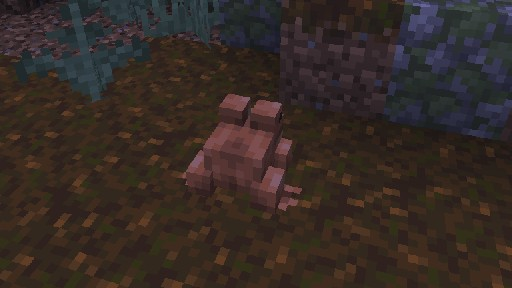frog: (181, 92, 301, 215)
